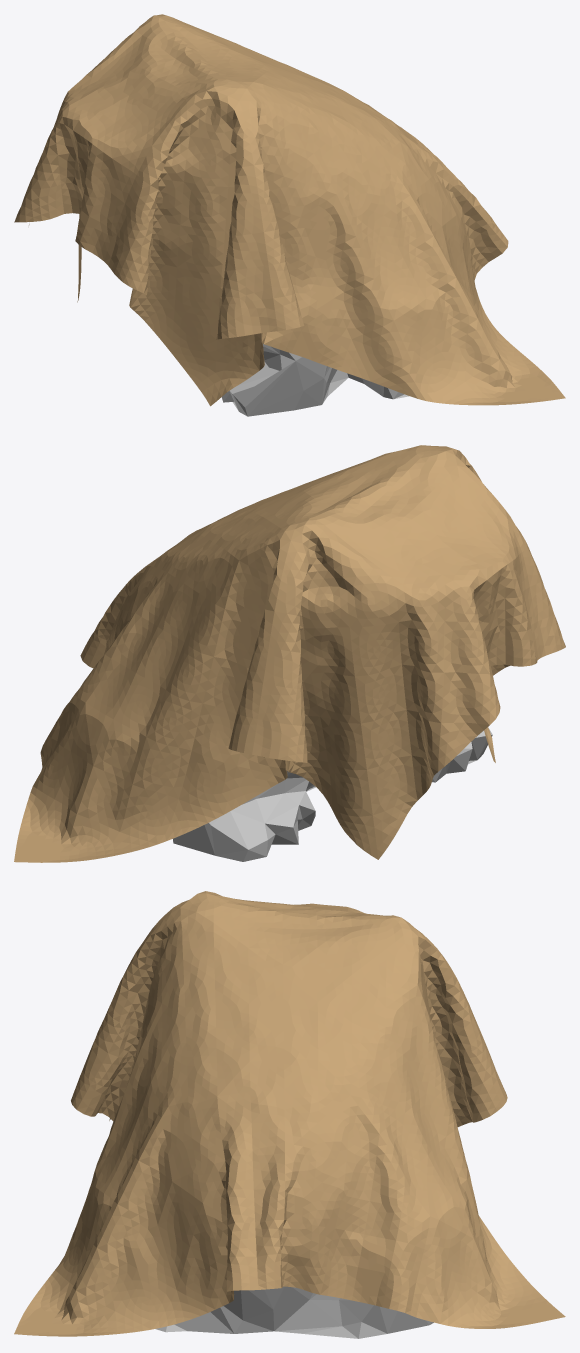
File: level_2.glb
The picture shows the model from 3 angles, top to bottom: view 1: azimuth 30°, elevation 25°; view 2: azimuth 150°, elevation 25°; view 3: azimuth 270°, elevation 25°; orthographic projection. The views are drawn at different scales.
Visible parts, largest first — view 1: world, object.obj; view 2: world, object.obj; view 3: world, object.obj.
Boxes of the visible parts, <box> form: world: <box>14,14,565,406</box>; object.obj: <box>222,344,409,416</box>; world: <box>14,445,565,862</box>; object.obj: <box>173,727,492,861</box>; world: <box>14,891,565,1336</box>; object.obj: <box>156,1286,433,1338</box>.
Size of the model in its own units: 0.4375 by 0.2963 by 0.4745.
